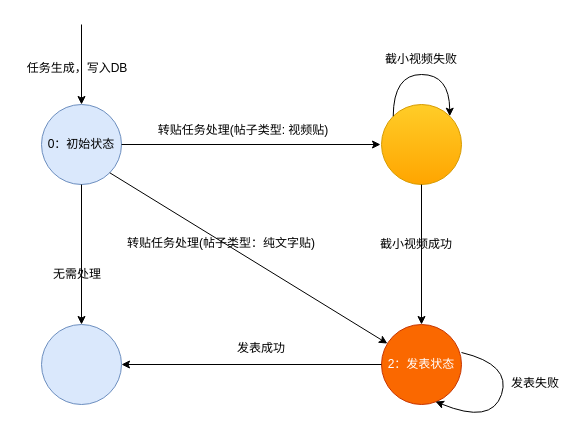
Some shapes in this 578 by 430 pixel diagram are drawn without their labels. The shapes that lost their labels are listed below. From the top down, each one's centre as x and y in pixels, then its label:
the point at 421,144: 1：截小视频状态
the point at 81,364: 100：处理完成
